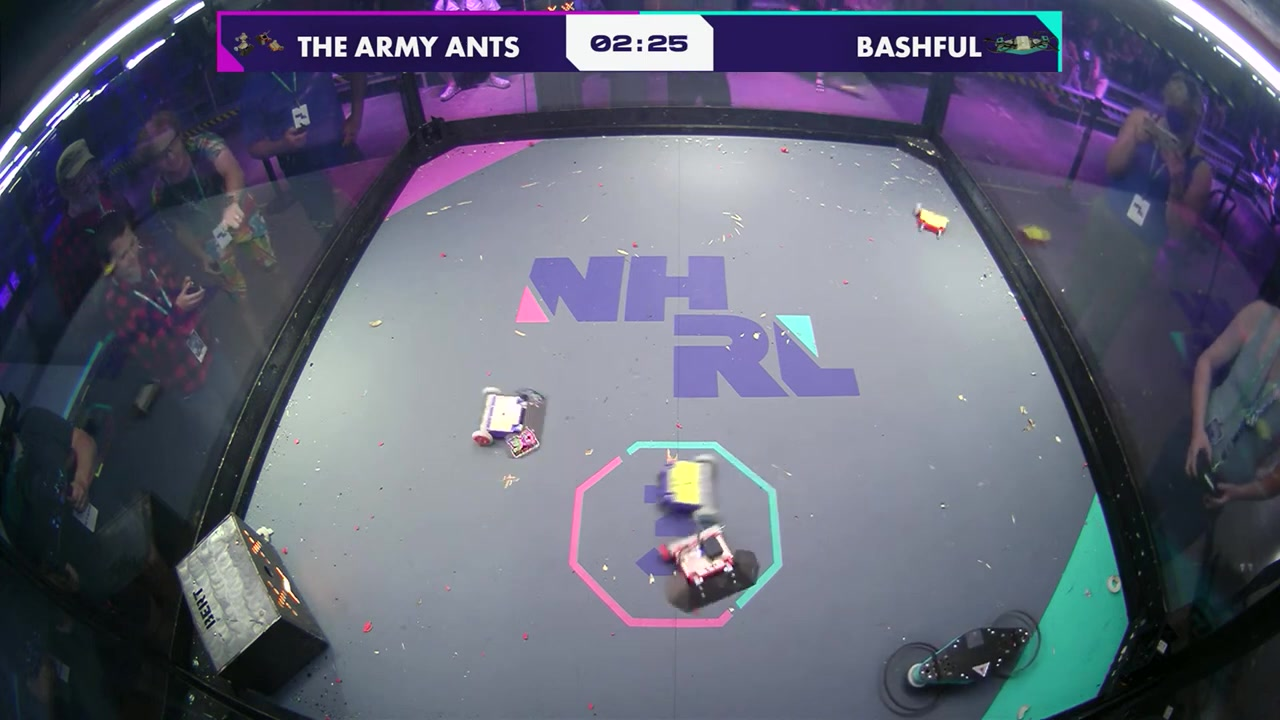combatbot: (908, 622, 1029, 692), (664, 526, 756, 606), (649, 451, 719, 517), (471, 388, 525, 447), (639, 305, 647, 306)
debris: (1107, 569, 1122, 594)
housebot: (175, 513, 329, 693)
minibot: (649, 453, 720, 517), (507, 423, 538, 460), (912, 204, 951, 232)
